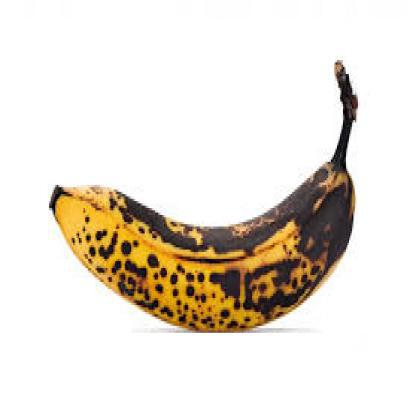banana_rotten: (36, 50, 384, 344)
